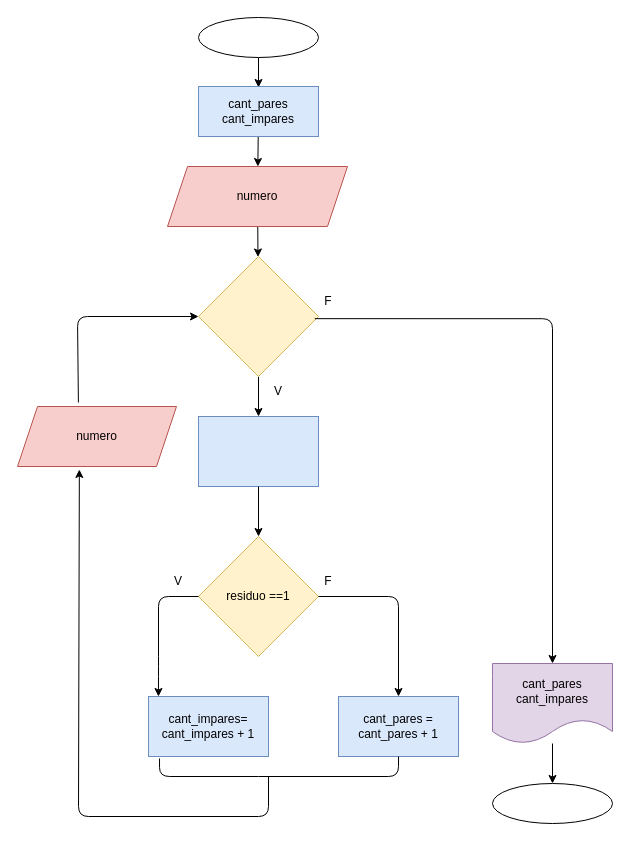
The diagram is 630 pixels wide and 842 high, and some of its shapes have lost their labels. The shapes that lost their labels are listed below. From the top down, each one's box as (x1, y1, x2, y2) in pixels, then its label:
(198, 16, 318, 58): INICIO
(198, 256, 318, 376): numero != 0
(198, 416, 318, 486): residuo=numero%2
(492, 782, 612, 824): FIN
